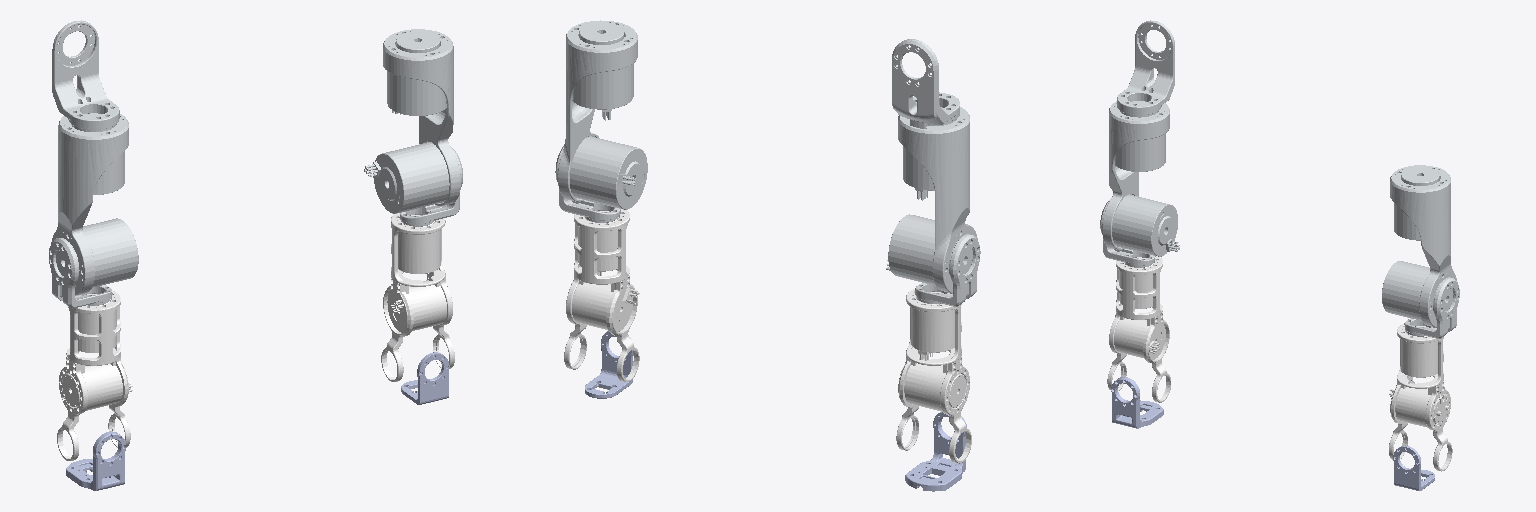
URDF robot description (astral_robot):
<?xml version="1.0" encoding="utf-8"?>
<!-- ============================================================================
  Dual-arm URDF — "Astral Robot"

  Two identical 7-DOF arms mounted symmetrically on a shared torso.

  Kinematic tree:
    world
    └── ground_to_body → body_link (torso, shared)
        ├── left_shoulder_mount  → left_base_link  → left_joint1~7 → left_link1~7
        └── right_shoulder_mount → right_base_link → right_joint1~7 → right_link1~7

  All meshes: package://astral_robot_description/meshes/
  ============================================================================ -->
<robot name="astral_robot">

  <!-- ======================================================================= -->
  <!--  WORLD — ground reference frame                                         -->
  <!-- ======================================================================= -->
  <link name="world"/>

  <joint name="ground_to_body" type="fixed">
    <parent link="world"/>
    <child link="body_link"/>
    <origin xyz="0 0 0" rpy="0 0 0"/>
  </joint>

  <!-- ======================================================================= -->
  <!--  BODY LINK — shared torso                                               -->
  <!-- ======================================================================= -->
  <link name="body_link">
    <inertial>
      <origin xyz="-0.000397796461260431 -0.00152495035220991 0.311174521880867" rpy="0 0 0"/>
      <mass value="3.83585130314113"/>
      <inertia ixx="0.0177204149690876" ixy="-9.93687937361393E-07" ixz="-5.47542776773803E-05" iyy="0.0184032317304656" iyz="-0.000201716977992903" izz="0.00624143314456702"/>
    </inertial>
    <visual>
      <origin xyz="0 0 0" rpy="0 0 0"/>
      <geometry>
        <mesh filename="package://astral_robot_description/meshes/base_link.STL"/>
      </geometry>
      <material name="">
        <color rgba="0.792156862745098 0.819607843137255 0.933333333333333 1"/>
      </material>
    </visual>
    <collision>
      <origin xyz="0 0 0" rpy="0 0 0"/>
      <geometry>
        <mesh filename="package://astral_robot_description/meshes/base_link.STL"/>
      </geometry>
    </collision>
  </link>

  <!-- ======================================================================= -->
  <!--                        LEFT ARM                                          -->
  <!-- ======================================================================= -->

  <joint name="left_shoulder_mount" type="fixed">
    <origin xyz="0.09495 0 0.412" rpy="0 0 0"/>
    <parent link="body_link"/>
    <child link="left_base_link"/>
  </joint>

  <link name="left_base_link"/>

  <link name="left_link1">
    <inertial>
      <origin xyz="0.00413700977741738 3.13242155845495E-05 -0.102952710945695" rpy="0 0 0"/>
      <mass value="0.425143933299929"/>
      <inertia ixx="0.000400795538974745" ixy="-8.79834183404054E-07" ixz="5.55331453556677E-05" iyy="0.000446033724929825" iyz="5.25094998188193E-07" izz="0.00037515957060443"/>
    </inertial>
    <visual>
      <origin xyz="0 0 0" rpy="0 0 0"/>
      <geometry>
        <mesh filename="package://astral_robot_description/meshes/link1.STL"/>
      </geometry>
      <material name="">
        <color rgba="0.898039215686275 0.917647058823529 0.929411764705882 1"/>
      </material>
    </visual>
    <collision>
      <origin xyz="0 0 0" rpy="0 0 0"/>
      <geometry>
        <mesh filename="package://astral_robot_description/meshes/link1.STL"/>
      </geometry>
    </collision>
  </link>
  <joint name="left_joint1" type="revolute">
    <origin xyz="0 0 0" rpy="-1.5708 0 1.5708"/>
    <parent link="left_base_link"/>
    <child link="left_link1"/>
    <axis xyz="0 0 1"/>
    <limit lower="-2.0" upper="2.0" effort="100" velocity="10"/>
  </joint>

  <link name="left_link2">
    <inertial>
      <origin xyz="1.16366136365675E-07 -0.0515369360052761 -0.0233393507591638" rpy="0 0 0"/>
      <mass value="0.170397147939771"/>
      <inertia ixx="0.000176632928221221" ixy="9.88510099541285E-11" ixz="-7.16368604056304E-11" iyy="0.000124223561257769" iyz="5.05360861009142E-05" izz="0.000154841820923681"/>
    </inertial>
    <visual>
      <origin xyz="0 0 0" rpy="0 0 0"/>
      <geometry>
        <mesh filename="package://astral_robot_description/meshes/link2.STL"/>
      </geometry>
      <material name="">
        <color rgba="0.898039215686275 0.917647058823529 0.929411764705882 1"/>
      </material>
    </visual>
    <collision>
      <origin xyz="0 0 0" rpy="0 0 0"/>
      <geometry>
        <mesh filename="package://astral_robot_description/meshes/link2.STL"/>
      </geometry>
    </collision>
  </link>
  <joint name="left_joint2" type="revolute">
    <origin xyz="0.00245 0 -0.11655" rpy="3.1416 1.5708 0"/>
    <parent link="left_link1"/>
    <child link="left_link2"/>
    <axis xyz="0 0 1"/>
    <limit lower="-0.3" upper="2.0" effort="100" velocity="10"/>
  </joint>

  <link name="left_link3">
    <inertial>
      <origin xyz="0.0052733306336345 0.000541043280667566 -0.0560142283878082" rpy="0 0 0"/>
      <mass value="0.828197516273737"/>
      <inertia ixx="0.00146512401102827" ixy="-4.70601849889154E-06" ixz="0.000171052404649863" iyy="0.00148986909371496" iyz="1.9876103888156E-05" izz="0.000641319058946128"/>
    </inertial>
    <visual>
      <origin xyz="0 0 0" rpy="0 0 0"/>
      <geometry>
        <mesh filename="package://astral_robot_description/meshes/link3.STL"/>
      </geometry>
      <material name="">
        <color rgba="0.898039215686275 0.917647058823529 0.929411764705882 1"/>
      </material>
    </visual>
    <collision>
      <origin xyz="0 0 0" rpy="0 0 0"/>
      <geometry>
        <mesh filename="package://astral_robot_description/meshes/link3.STL"/>
      </geometry>
    </collision>
  </link>
  <joint name="left_joint3" type="revolute">
    <origin xyz="0 -0.11605 0.00245" rpy="-1.5708 0 0"/>
    <parent link="left_link2"/>
    <child link="left_link3"/>
    <axis xyz="0 0 1"/>
    <limit lower="-2.2689" upper="2.2689" effort="100" velocity="10"/>
  </joint>

  <link name="left_link4">
    <inertial>
      <origin xyz="2.25766184129186E-07 -0.0305678127128807 0.0269754610593833" rpy="0 0 0"/>
      <mass value="0.0732871793694264"/>
      <inertia ixx="6.11533842326613E-05" ixy="1.21221675532134E-10" ixz="2.75704116734621E-09" iyy="3.9792576295254E-05" iyz="-1.67758586650268E-05" izz="5.33009737500945E-05"/>
    </inertial>
    <visual>
      <origin xyz="0 0 0" rpy="0 0 0"/>
      <geometry>
        <mesh filename="package://astral_robot_description/meshes/link4.STL"/>
      </geometry>
      <material name="">
        <color rgba="0.898039215686275 0.917647058823529 0.929411764705882 1"/>
      </material>
    </visual>
    <collision>
      <origin xyz="0 0 0" rpy="0 0 0"/>
      <geometry>
        <mesh filename="package://astral_robot_description/meshes/link4.STL"/>
      </geometry>
    </collision>
  </link>
  <joint name="left_joint4" type="revolute">
    <origin xyz="-5E-05 0 -0.12995" rpy="1.5708 0 1.5708"/>
    <parent link="left_link3"/>
    <child link="left_link4"/>
    <axis xyz="0 0 1"/>
    <limit lower="-2.26" upper="0.0" effort="100" velocity="10"/>
  </joint>

  <link name="left_link5">
    <inertial>
      <origin xyz="0.000917722983989122 -0.00172455542728443 0.0413047183843976" rpy="0 0 0"/>
      <mass value="0.357479627979921"/>
      <inertia ixx="0.00023855008866071" ixy="3.26564382789649E-07" ixz="-2.26698562006965E-07" iyy="0.000245543547575495" iyz="2.00410252204386E-06" izz="0.00014874826512795"/>
    </inertial>
    <visual>
      <origin xyz="0 0 0" rpy="0 0 0"/>
      <geometry>
        <mesh filename="package://astral_robot_description/meshes/link5.STL"/>
      </geometry>
      <material name="">
        <color rgba="1 1 1 1"/>
      </material>
    </visual>
    <collision>
      <origin xyz="0 0 0" rpy="0 0 0"/>
      <geometry>
        <mesh filename="package://astral_robot_description/meshes/link5.STL"/>
      </geometry>
    </collision>
  </link>
  <joint name="left_joint5" type="revolute">
    <origin xyz="0 -0.0819 5E-05" rpy="1.5708 -1.5708 0"/>
    <parent link="left_link4"/>
    <child link="left_link5"/>
    <axis xyz="0 0 1"/>
    <limit lower="-1.7802" upper="1.7802" effort="100" velocity="10"/>
  </joint>

  <link name="left_link6">
    <inertial>
      <origin xyz="-0.00209616210931616 -7.60432338380648E-05 -0.0345869016249898" rpy="0 0 0"/>
      <mass value="0.223326104264372"/>
      <inertia ixx="0.0001191916758025" ixy="5.11035010670013E-07" ixz="5.44350071946939E-09" iyy="0.000125075221210904" iyz="-1.50912446701465E-09" izz="0.000116882152036891"/>
    </inertial>
    <visual>
      <origin xyz="0 0 0" rpy="0 0 0"/>
      <geometry>
        <mesh filename="package://astral_robot_description/meshes/link6.STL"/>
      </geometry>
      <material name="">
        <color rgba="0.866666666666667 0.866666666666667 0.890196078431372 1"/>
      </material>
    </visual>
    <collision>
      <origin xyz="0 0 0" rpy="0 0 0"/>
      <geometry>
        <mesh filename="package://astral_robot_description/meshes/link6.STL"/>
      </geometry>
    </collision>
  </link>
  <joint name="left_joint6" type="revolute">
    <origin xyz="-0.0346 0 0.1446" rpy="1.5708 0 -1.5708"/>
    <parent link="left_link5"/>
    <child link="left_link6"/>
    <axis xyz="0 0 1"/>
    <limit lower="-0.8" upper="0.85" effort="100" velocity="10"/>
  </joint>

  <link name="left_link7">
    <inertial>
      <origin xyz="-3.07727787696166E-10 -0.0259940225273303 0.0199872280031537" rpy="0 0 0"/>
      <mass value="0.015413107363488"/>
      <inertia ixx="8.04290603753782E-06" ixy="-2.14770052671349E-14" ixz="-1.47932442430447E-13" iyy="5.65123319283211E-06" iyz="-2.06676272068973E-06" izz="6.48331175250713E-06"/>
    </inertial>
    <visual>
      <origin xyz="0 0 0" rpy="0 0 0"/>
      <geometry>
        <mesh filename="package://astral_robot_description/meshes/link7.STL"/>
      </geometry>
      <material name="">
        <color rgba="0.792156862745098 0.819607843137255 0.933333333333333 1"/>
      </material>
    </visual>
    <collision>
      <origin xyz="0 0 0" rpy="0 0 0"/>
      <geometry>
        <mesh filename="package://astral_robot_description/meshes/link7.STL"/>
      </geometry>
    </collision>
  </link>
  <joint name="left_joint7" type="revolute">
    <origin xyz="-0.0036 0 -0.03455" rpy="3.1416 1.5708 0"/>
    <parent link="left_link6"/>
    <child link="left_link7"/>
    <axis xyz="0 0 1"/>
    <limit lower="-1.57" upper="1.57" effort="100" velocity="10"/>
  </joint>

  <!-- ======================================================================= -->
  <!--                        RIGHT ARM                                         -->
  <!-- ======================================================================= -->

  <joint name="right_shoulder_mount" type="fixed">
    <origin xyz="-0.09495 0 0.412" rpy="0 0 0"/>
    <parent link="body_link"/>
    <child link="right_base_link"/>
  </joint>

  <link name="right_base_link"/>

  <link name="right_link1">
    <inertial>
      <origin xyz="0.00413700977741926 -3.82336507528391E-05 0.103006588925527" rpy="0 0 0"/>
      <mass value="0.425143933299929"/>
      <inertia ixx="0.000400795538974746" ixy="1.08349168115491E-06" ixz="-5.70537061698757E-05" iyy="0.000446300429422419" iyz="-4.56295409321513E-07" izz="0.000374892866111837"/>
    </inertial>
    <visual>
      <origin xyz="0 0 0" rpy="0 0 0"/>
      <geometry>
        <mesh filename="package://astral_robot_description/meshes/link1_r.STL"/>
      </geometry>
      <material name="">
        <color rgba="0.898039215686275 0.917647058823529 0.929411764705882 1"/>
      </material>
    </visual>
    <collision>
      <origin xyz="0 0 0" rpy="0 0 0"/>
      <geometry>
        <mesh filename="package://astral_robot_description/meshes/link1_r.STL"/>
      </geometry>
    </collision>
  </link>
  <joint name="right_joint1" type="revolute">
    <origin xyz="0 0 0" rpy="-1.5708 0 1.5708"/>
    <parent link="right_base_link"/>
    <child link="right_link1"/>
    <axis xyz="0 0 1"/>
    <limit lower="-2.0" upper="2.0" effort="100" velocity="10"/>
  </joint>

  <link name="right_link2">
    <inertial>
      <origin xyz="1.16366135921586E-07 -0.0515369360052763 -0.0233393507591618" rpy="0 0 0"/>
      <mass value="0.170397147939771"/>
      <inertia ixx="0.000176632928221221" ixy="9.88510099800183E-11" ixz="-7.16368603610298E-11" iyy="0.000124223561257769" iyz="5.05360861009141E-05" izz="0.000154841820923681"/>
    </inertial>
    <visual>
      <origin xyz="0 0 0" rpy="0 0 0"/>
      <geometry>
        <mesh filename="package://astral_robot_description/meshes/link2_r.STL"/>
      </geometry>
      <material name="">
        <color rgba="0.898039215686275 0.917647058823529 0.929411764705882 1"/>
      </material>
    </visual>
    <collision>
      <origin xyz="0 0 0" rpy="0 0 0"/>
      <geometry>
        <mesh filename="package://astral_robot_description/meshes/link2_r.STL"/>
      </geometry>
    </collision>
  </link>
  <joint name="right_joint2" type="revolute">
    <origin xyz="0.00245 0 0.11655" rpy="3.1416 1.5708 0"/>
    <parent link="right_link1"/>
    <child link="right_link2"/>
    <axis xyz="0 0 1"/>
    <limit lower="-2.0" upper="0.3" effort="100" velocity="10"/>
  </joint>

  <link name="right_link3">
    <inertial>
      <origin xyz="0.000528188962849174 0.000781937312093135 -0.0509615268160508" rpy="0 0 0"/>
      <mass value="1.09720883776252"/>
      <inertia ixx="0.00255040564574133" ixy="4.0430403752081E-07" ixz="-1.20950446705769E-06" iyy="0.00255310914133306" iyz="3.93013079428049E-05" izz="0.000904397575779309"/>
    </inertial>
    <visual>
      <origin xyz="0 0 0" rpy="0 0 0"/>
      <geometry>
        <mesh filename="package://astral_robot_description/meshes/link3_r.STL"/>
      </geometry>
      <material name="">
        <color rgba="0.898039215686275 0.917647058823529 0.929411764705882 1"/>
      </material>
    </visual>
    <collision>
      <origin xyz="0 0 0" rpy="0 0 0"/>
      <geometry>
        <mesh filename="package://astral_robot_description/meshes/link3_r.STL"/>
      </geometry>
    </collision>
  </link>
  <joint name="right_joint3" type="revolute">
    <origin xyz="0 -0.11605 0.00245" rpy="-1.5708 0 0"/>
    <parent link="right_link2"/>
    <child link="right_link3"/>
    <axis xyz="0 0 1"/>
    <limit lower="-2.2689" upper="2.2689" effort="100" velocity="10"/>
  </joint>

  <link name="right_link4">
    <inertial>
      <origin xyz="-2.257661842704E-07 -0.0305678127128808 -0.0269754610593834" rpy="0 0 0"/>
      <mass value="0.0732871793694264"/>
      <inertia ixx="6.11533842326615E-05" ixy="-1.21221675492093E-10" ixz="2.75704116729368E-09" iyy="3.97925762952541E-05" iyz="1.67758586650267E-05" izz="5.33009737500947E-05"/>
    </inertial>
    <visual>
      <origin xyz="0 0 0" rpy="0 0 0"/>
      <geometry>
        <mesh filename="package://astral_robot_description/meshes/link4_r.STL"/>
      </geometry>
      <material name="">
        <color rgba="0.898039215686275 0.917647058823529 0.929411764705882 1"/>
      </material>
    </visual>
    <collision>
      <origin xyz="0 0 0" rpy="0 0 0"/>
      <geometry>
        <mesh filename="package://astral_robot_description/meshes/link4_r.STL"/>
      </geometry>
    </collision>
  </link>
  <joint name="right_joint4" type="revolute">
    <origin xyz="5E-05 0 -0.12995" rpy="1.5708 0 1.5708"/>
    <parent link="right_link3"/>
    <child link="right_link4"/>
    <axis xyz="0 0 1"/>
    <limit lower="-2.26" upper="0.0" effort="100" velocity="10"/>
  </joint>

  <link name="right_link5">
    <inertial>
      <origin xyz="-0.000706691873663123 0.00172078855118374 0.0410890509377416" rpy="0 0 0"/>
      <mass value="0.355009307930819"/>
      <inertia ixx="0.000238119053092598" ixy="-4.93786899775847E-07" ixz="-1.66713000077862E-07" iyy="0.000245158116943135" iyz="-8.80560764550975E-07" izz="0.000148691005997006"/>
    </inertial>
    <visual>
      <origin xyz="0 0 0" rpy="0 0 0"/>
      <geometry>
        <mesh filename="package://astral_robot_description/meshes/link5_r.STL"/>
      </geometry>
      <material name="">
        <color rgba="1 1 1 1"/>
      </material>
    </visual>
    <collision>
      <origin xyz="0 0 0" rpy="0 0 0"/>
      <geometry>
        <mesh filename="package://astral_robot_description/meshes/link5_r.STL"/>
      </geometry>
    </collision>
  </link>
  <joint name="right_joint5" type="revolute">
    <origin xyz="0 -0.0819 -5E-05" rpy="1.5708 -1.5708 0"/>
    <parent link="right_link4"/>
    <child link="right_link5"/>
    <axis xyz="0 0 1"/>
    <limit lower="-1.7802" upper="1.7802" effort="100" velocity="10"/>
  </joint>

  <link name="right_link6">
    <inertial>
      <origin xyz="-0.0021529007648151 5.13027001297767E-05 -0.0346099825467621" rpy="0 0 0"/>
      <mass value="0.217440454408776"/>
      <inertia ixx="0.00011877868846355" ixy="-3.33062659807732E-07" ixz="3.8810869246705E-07" iyy="0.000124805979009024" iyz="1.3928005500597E-07" izz="0.000115909329821157"/>
    </inertial>
    <visual>
      <origin xyz="0 0 0" rpy="0 0 0"/>
      <geometry>
        <mesh filename="package://astral_robot_description/meshes/link6_r.STL"/>
      </geometry>
      <material name="">
        <color rgba="0.866666666666667 0.866666666666667 0.890196078431372 1"/>
      </material>
    </visual>
    <collision>
      <origin xyz="0 0 0" rpy="0 0 0"/>
      <geometry>
        <mesh filename="package://astral_robot_description/meshes/link6_r.STL"/>
      </geometry>
    </collision>
  </link>
  <joint name="right_joint6" type="revolute">
    <origin xyz="-0.03455 0 0.1446" rpy="1.5708 0 -1.5708"/>
    <parent link="right_link5"/>
    <child link="right_link6"/>
    <axis xyz="0 0 1"/>
    <limit lower="-0.8" upper="0.85" effort="100" velocity="10"/>
  </joint>

  <link name="right_link7">
    <inertial>
      <origin xyz="-2.8735851198558E-08 -0.0348118830824771 0.0116905586058585" rpy="0 0 0"/>
      <mass value="0.0314600316109727"/>
      <inertia ixx="2.39773424952545E-05" ixy="-2.24174589901459E-12" ixz="7.61926800616011E-12" iyy="2.1001184508811E-05" iyz="-6.41940895900769E-06" izz="1.54626175075102E-05"/>
    </inertial>
    <visual>
      <origin xyz="0 0 0" rpy="0 0 0"/>
      <geometry>
        <mesh filename="package://astral_robot_description/meshes/link7_r.STL"/>
      </geometry>
      <material name="">
        <color rgba="0.792156862745098 0.819607843137255 0.933333333333333 1"/>
      </material>
    </visual>
    <collision>
      <origin xyz="0 0 0" rpy="0 0 0"/>
      <geometry>
        <mesh filename="package://astral_robot_description/meshes/link7_r.STL"/>
      </geometry>
    </collision>
  </link>
  <joint name="right_joint7" type="revolute">
    <origin xyz="-0.0036 0 -0.03455" rpy="3.1416 1.5708 0"/>
    <parent link="right_link6"/>
    <child link="right_link7"/>
    <axis xyz="0 0 1"/>
    <limit lower="-1.57" upper="1.57" effort="100" velocity="10"/>
  </joint>

</robot>

--- Facts derived from the render (not from the file) ---
The picture shows the robot from 3 angles, left to right: view 1: azimuth 30°, elevation 25°; view 2: azimuth 150°, elevation 25°; view 3: azimuth 330°, elevation 25°; orthographic projection.
Model astral_robot with 18 links and 17 joints (14 revolute, 3 fixed), rooted at world, posed every joint at zero.
Visible links, largest first — view 1: left_link3, right_link3, left_link5, right_link5, right_link2, right_link7, right_link4, left_link7, left_link4; view 2: left_link3, right_link3, left_link5, right_link5, right_link2, right_link7, right_link4, left_link7, left_link4; view 3: left_link3, right_link3, right_link5, left_link5, right_link2, right_link7, left_link4, left_link7, right_link4.
Boxes of the visible links, x1=… form: left_link3: x1=364, y1=29, x2=460, y2=213; right_link3: x1=51, y1=113, x2=138, y2=295; left_link5: x1=381, y1=213, x2=454, y2=381; right_link5: x1=57, y1=291, x2=132, y2=460; right_link2: x1=52, y1=20, x2=119, y2=129; right_link7: x1=66, y1=431, x2=125, y2=490; right_link4: x1=49, y1=238, x2=111, y2=308; left_link7: x1=401, y1=352, x2=449, y2=404; left_link4: x1=400, y1=147, x2=462, y2=226; left_link3: x1=558, y1=20, x2=647, y2=209; right_link3: x1=886, y1=107, x2=977, y2=293; left_link5: x1=564, y1=209, x2=639, y2=381; right_link5: x1=896, y1=289, x2=971, y2=463; right_link2: x1=892, y1=39, x2=959, y2=128; right_link7: x1=905, y1=412, x2=966, y2=491; right_link4: x1=915, y1=234, x2=980, y2=306; left_link7: x1=585, y1=331, x2=633, y2=398; left_link4: x1=555, y1=144, x2=620, y2=222; left_link3: x1=1382, y1=165, x2=1457, y2=327; right_link3: x1=1102, y1=101, x2=1179, y2=256; right_link5: x1=1107, y1=256, x2=1170, y2=402; left_link5: x1=1389, y1=324, x2=1452, y2=471; right_link2: x1=1117, y1=20, x2=1174, y2=114; right_link7: x1=1111, y1=377, x2=1163, y2=428; left_link4: x1=1404, y1=277, x2=1459, y2=338; left_link7: x1=1393, y1=445, x2=1434, y2=490; right_link4: x1=1100, y1=199, x2=1155, y2=267.
Bounding box of the posed robot: 0.511 × 0.0865 × 0.5505 m (x, y, z).
Meshes: 15 distinct files referenced, 9 mesh visuals loaded (9 binary STL); not drawn: 6 (reference not matched to a file when rendering).
